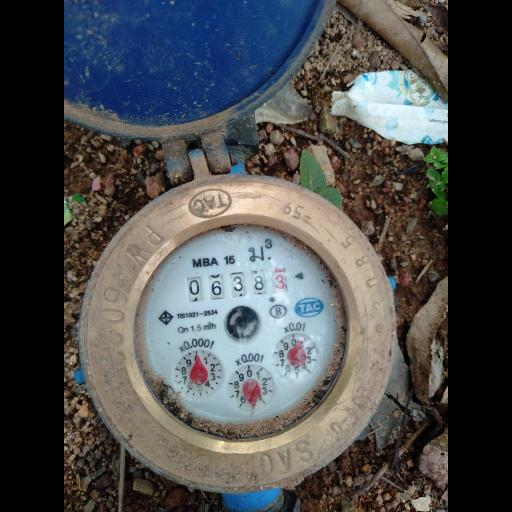0: (188, 276, 203, 302)
3: (231, 272, 246, 297), (272, 268, 287, 293)
6: (210, 274, 225, 300)
8: (252, 270, 267, 295)
border_water_meter_number: (187, 267, 287, 302)
